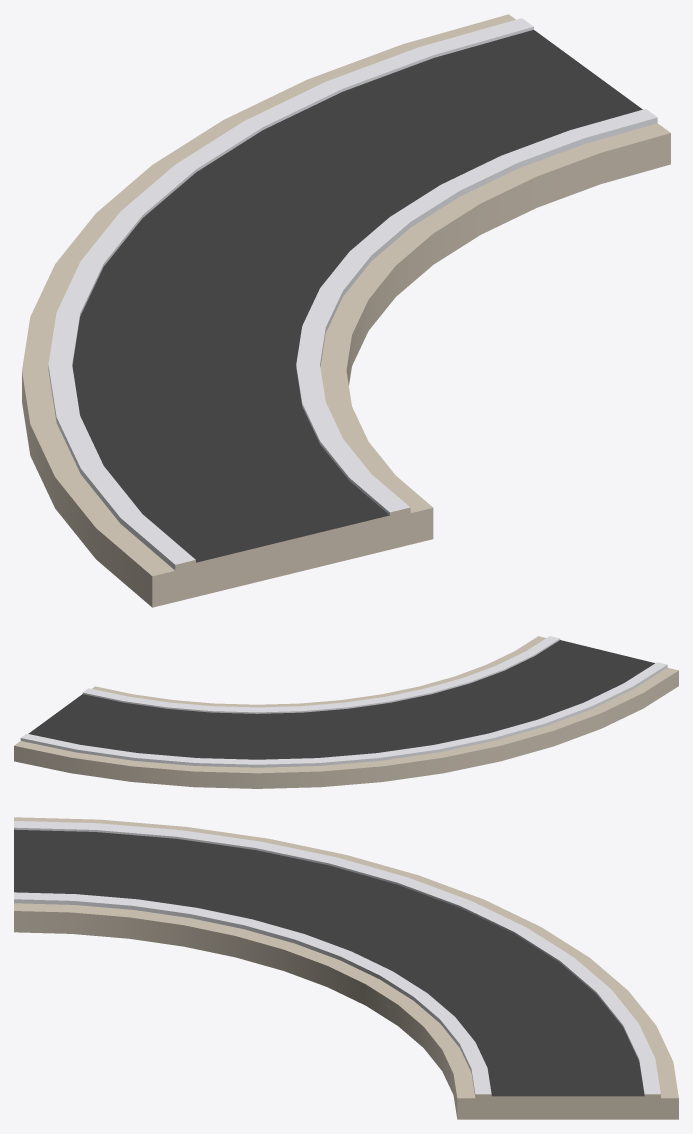
The model's file is roadCornerBridgeLarger.glb.
The picture shows the model from 3 angles, top to bottom: view 1: azimuth 30°, elevation 25°; view 2: azimuth 150°, elevation 25°; view 3: azimuth 270°, elevation 25°; orthographic projection. The views are drawn at different scales.
Visible parts, largest first — view 1: roadCornerBridgeLarger(Clone); view 2: roadCornerBridgeLarger(Clone); view 3: roadCornerBridgeLarger(Clone).
Part boxes in pixels (x1,y1,x2,y2): roadCornerBridgeLarger(Clone): (22,14,670,607); roadCornerBridgeLarger(Clone): (14,636,678,788); roadCornerBridgeLarger(Clone): (14,817,678,1119).
Size of the model in its own units: 3 by 0.1266 by 3.
